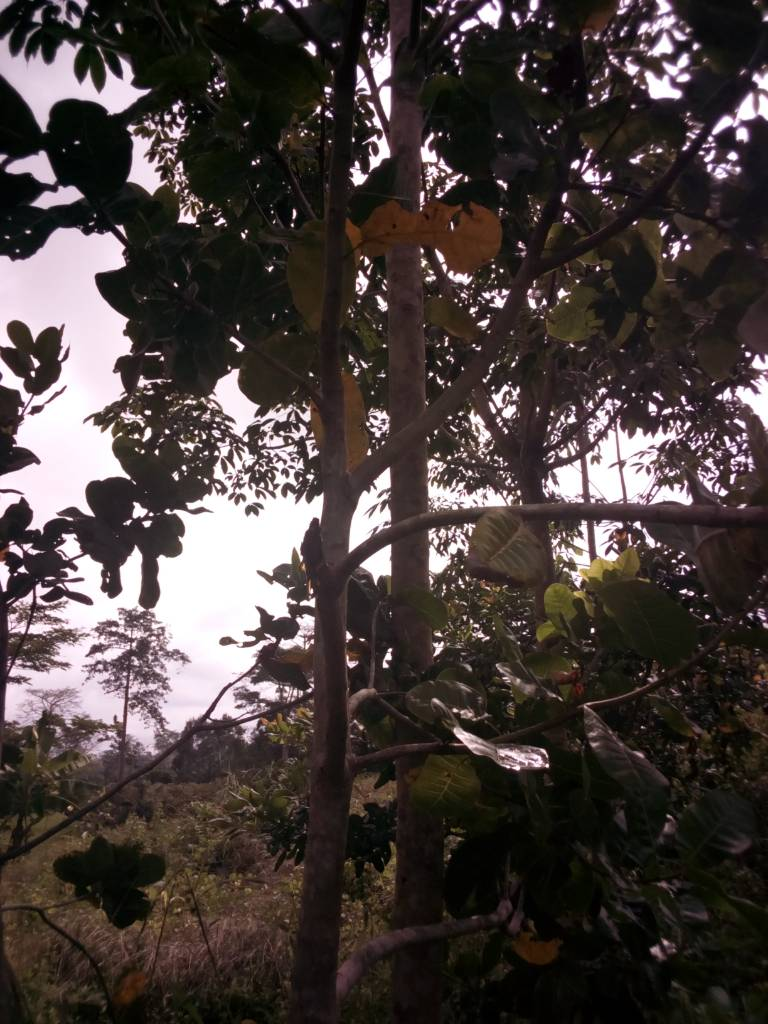Anoplonemis curvipes: (366, 200, 500, 266)
